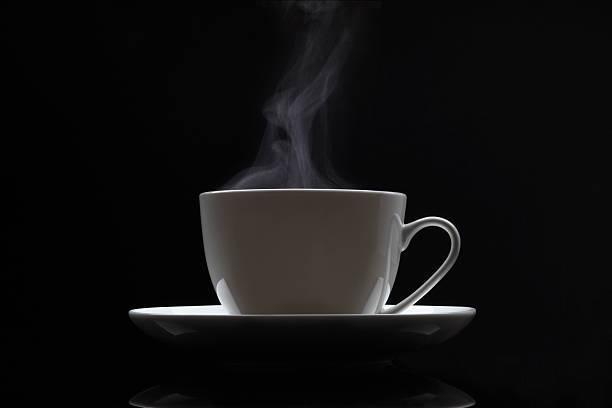cup-handle: (198, 187, 461, 315)
